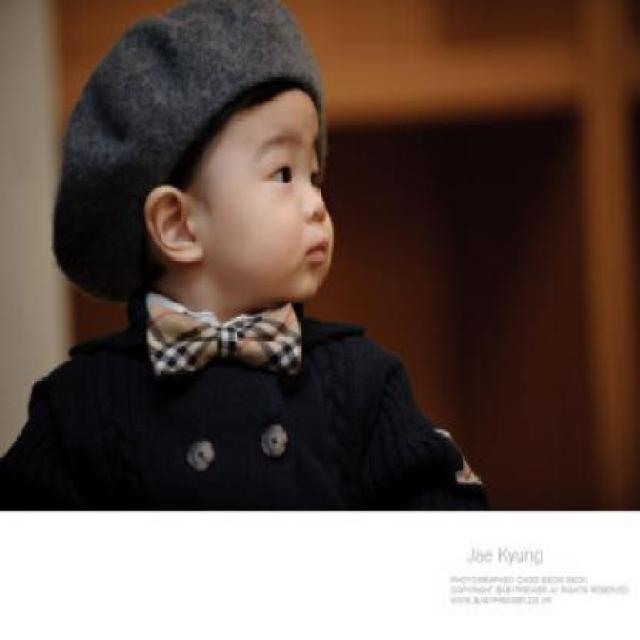hat: (51, 1, 324, 299)
